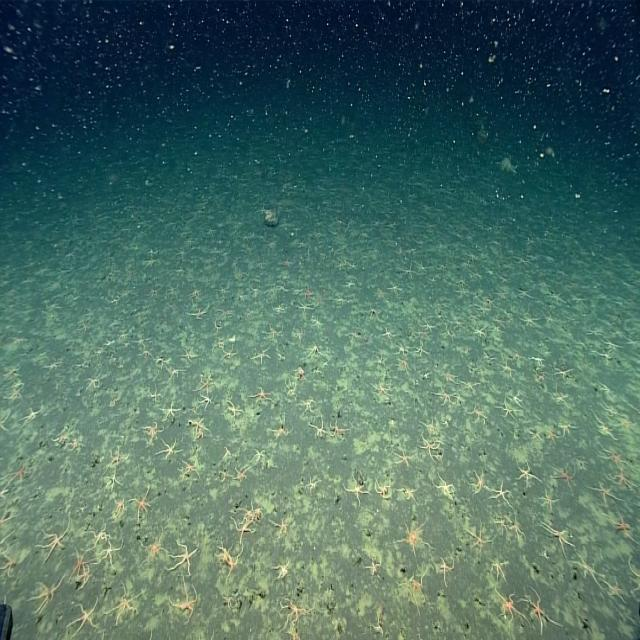brittle-stars: (109, 583, 142, 622), (540, 519, 573, 557), (170, 580, 198, 624), (525, 590, 553, 634), (70, 599, 102, 637), (39, 522, 71, 560), (32, 578, 62, 614), (495, 586, 523, 624), (576, 550, 604, 588), (399, 520, 428, 554), (465, 522, 491, 559), (171, 538, 197, 575), (278, 598, 308, 630), (588, 479, 620, 509), (607, 509, 636, 542), (215, 544, 243, 577), (550, 462, 576, 494), (406, 569, 428, 606), (344, 473, 369, 505), (598, 443, 628, 469), (140, 533, 165, 563), (97, 540, 121, 570), (132, 488, 153, 520), (515, 458, 537, 488), (603, 578, 625, 608), (248, 385, 274, 410), (270, 414, 292, 443), (418, 435, 441, 462), (490, 481, 512, 509), (224, 398, 246, 426), (6, 461, 28, 489), (107, 442, 128, 471), (432, 475, 454, 501), (233, 518, 255, 544), (179, 454, 200, 481), (470, 470, 490, 498), (158, 439, 182, 462), (0, 552, 19, 580), (21, 404, 44, 427), (188, 415, 211, 438), (498, 398, 518, 424), (436, 385, 458, 408), (330, 417, 348, 444), (309, 414, 327, 441), (90, 523, 111, 546), (273, 514, 293, 538), (142, 420, 162, 444), (374, 476, 393, 501), (160, 399, 178, 425), (396, 444, 414, 470), (490, 558, 508, 584), (440, 554, 456, 583), (249, 345, 271, 366), (197, 373, 217, 396), (554, 360, 574, 383), (468, 402, 487, 426), (510, 518, 527, 544), (397, 484, 418, 505), (372, 380, 394, 400), (615, 464, 631, 491), (538, 491, 558, 512), (71, 550, 86, 578), (592, 417, 612, 438), (179, 343, 198, 365), (272, 559, 290, 582), (364, 556, 381, 580), (104, 468, 121, 492), (0, 408, 14, 437), (543, 422, 559, 447), (111, 494, 127, 519), (520, 310, 540, 330), (498, 355, 514, 379), (242, 501, 258, 525), (188, 305, 209, 323), (283, 376, 298, 401), (87, 372, 104, 394), (304, 474, 320, 497), (42, 357, 61, 376), (306, 341, 325, 360), (197, 390, 216, 409), (421, 416, 439, 436), (264, 322, 284, 340), (558, 419, 576, 439), (414, 342, 431, 362), (494, 512, 508, 536), (286, 622, 304, 640), (402, 262, 418, 282), (234, 464, 250, 484), (364, 301, 380, 321), (80, 565, 94, 587), (252, 446, 267, 466), (470, 323, 487, 340), (168, 364, 184, 382), (386, 278, 402, 296), (396, 356, 411, 375), (218, 466, 232, 486), (148, 384, 162, 403), (553, 390, 567, 409), (310, 315, 326, 331), (441, 326, 457, 342), (300, 398, 314, 416), (141, 348, 155, 365), (190, 284, 204, 300), (253, 505, 266, 522), (451, 318, 469, 330), (51, 433, 66, 447), (371, 620, 385, 635), (219, 444, 233, 459), (220, 307, 235, 320), (462, 381, 478, 393), (220, 595, 234, 608), (419, 328, 432, 342), (601, 404, 619, 414), (382, 325, 394, 340), (618, 417, 632, 429), (154, 356, 167, 368), (484, 294, 496, 307), (420, 322, 437, 331), (531, 428, 540, 444), (69, 440, 82, 451), (509, 392, 522, 403), (536, 368, 547, 381), (296, 367, 307, 380), (396, 341, 406, 355), (474, 304, 488, 314), (294, 330, 304, 344), (466, 312, 478, 323), (491, 322, 503, 333), (215, 341, 226, 353), (442, 372, 455, 382), (345, 332, 358, 342), (438, 419, 452, 428), (377, 355, 387, 367), (111, 396, 121, 408), (136, 337, 146, 349), (277, 351, 287, 363), (212, 320, 221, 333), (490, 316, 503, 325), (484, 352, 495, 360), (514, 352, 524, 360), (224, 352, 235, 359), (532, 357, 544, 362), (123, 341, 131, 348), (118, 364, 125, 371), (121, 334, 126, 339)
